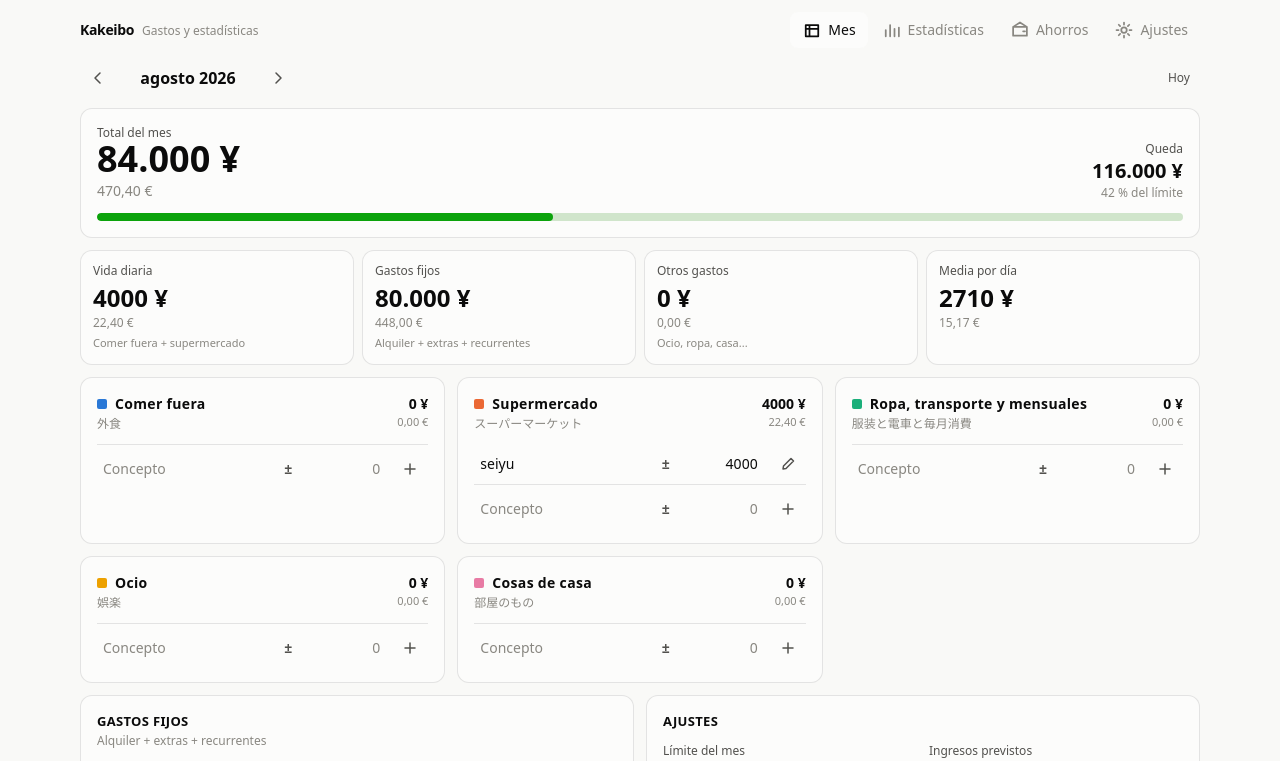
Test: la aplicacion › anade un gasto y actualiza el total
The image size is (1280, 761).
Step 1. Type "mcdonals" into the field with placeholder "Concepto" below "外食" → x=181, y=468, box x1=97 y1=452 x2=264 y2=484
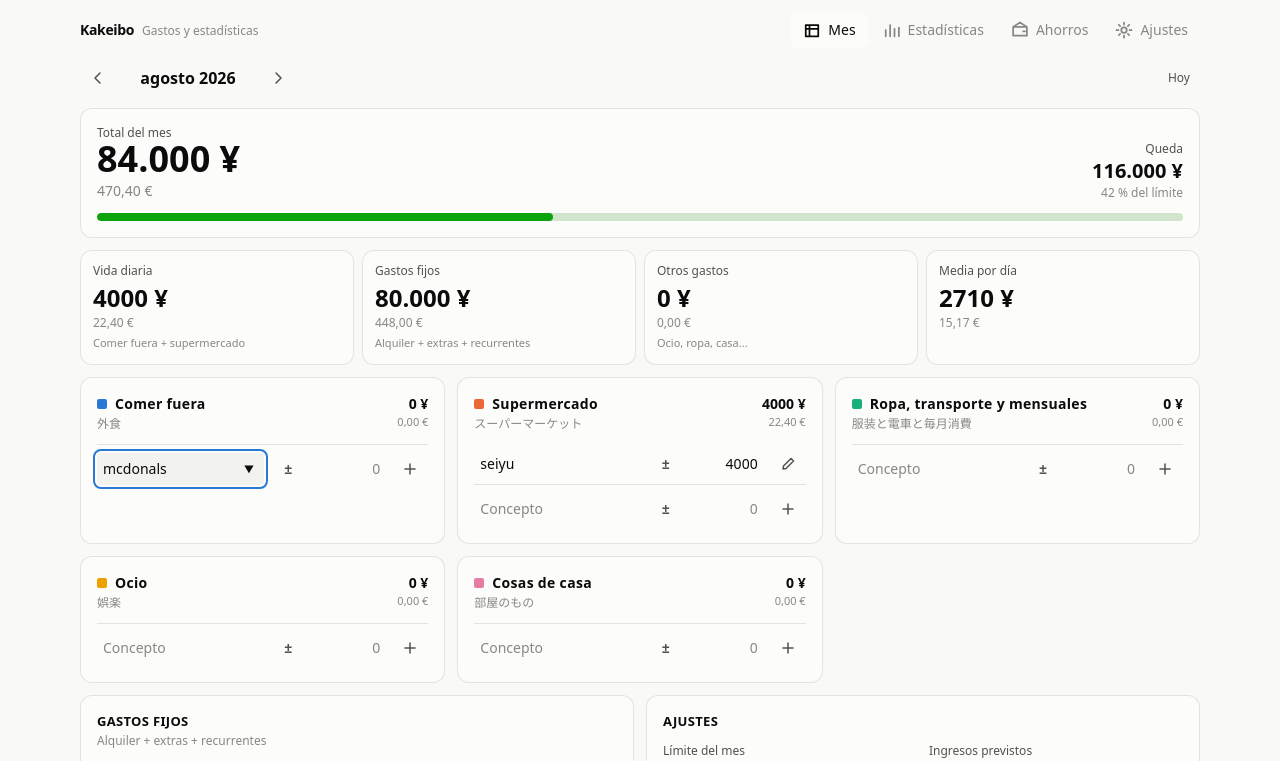
Step 2. Type "1000" into the field with placeholder "0" below "外食" → x=349, y=468, box x1=312 y1=452 x2=386 y2=484
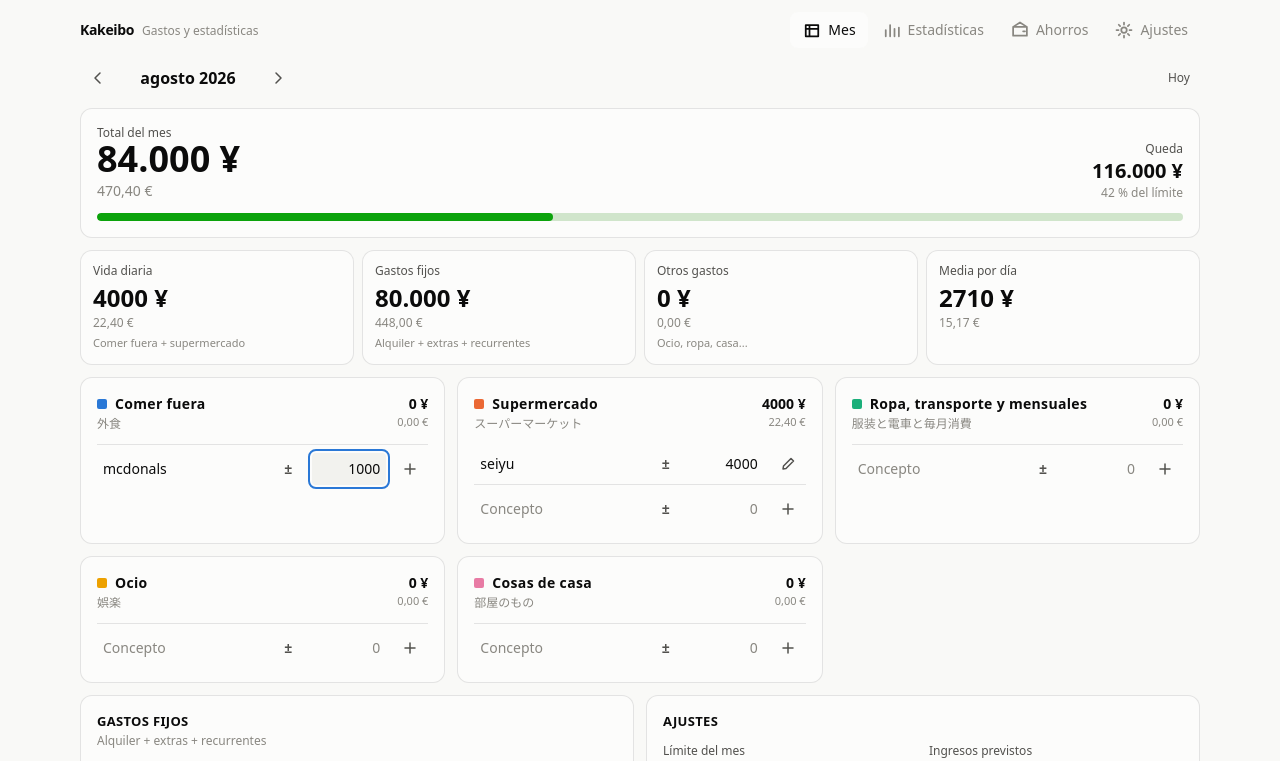
Step 3. Press Enter
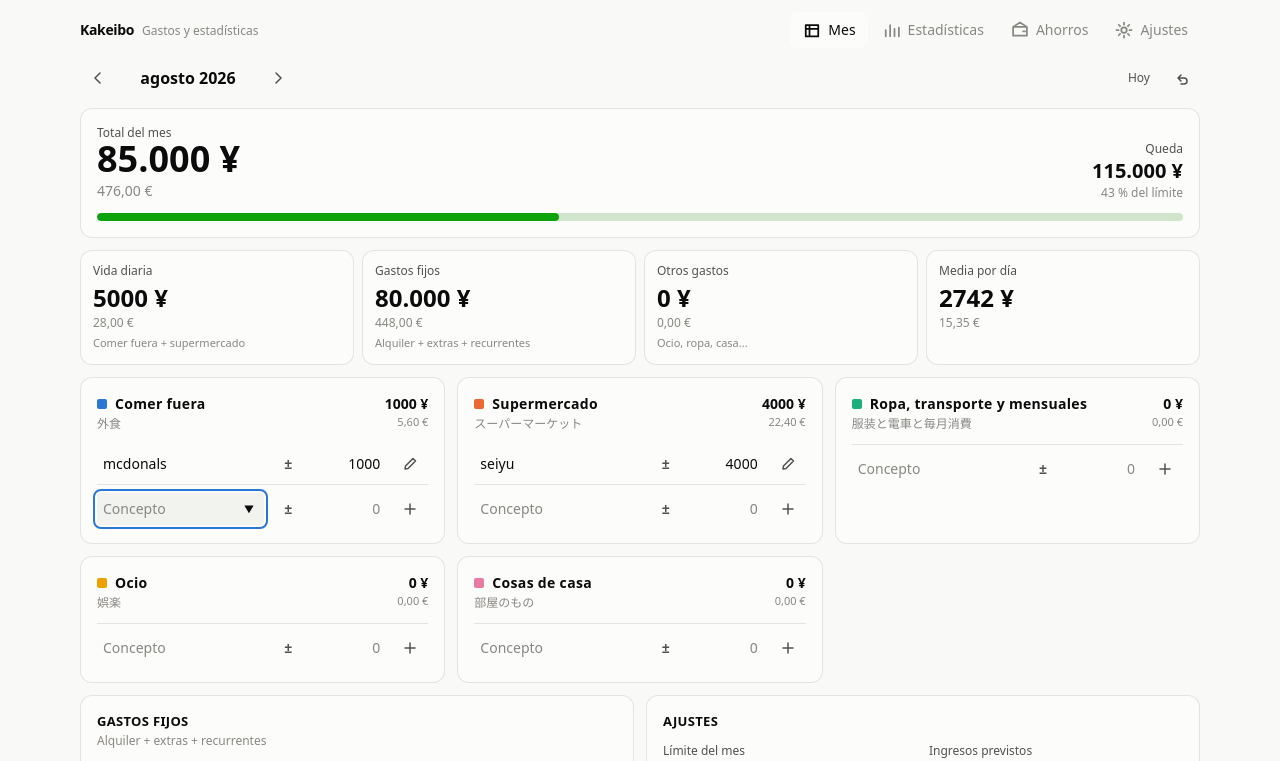
Check: the field showing "mcdonals" below "外食" is shown, box x1=97 y1=448 x2=264 y2=480
Check: the text "85.000 ¥" is shown, box x1=97 y1=141 x2=240 y2=177
